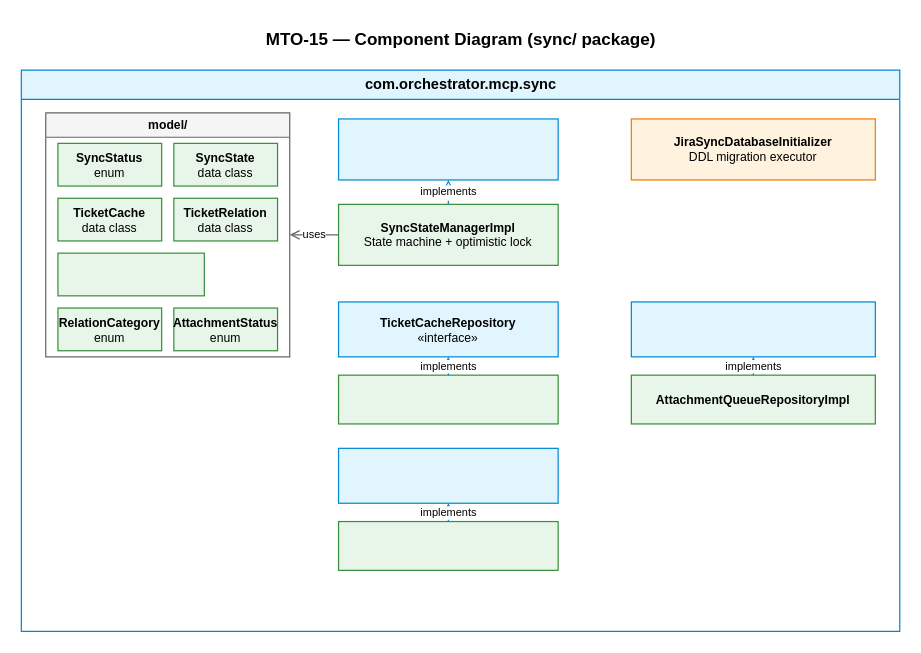
Some shapes in this 921 by 653 pixel diagram are drawn without their labels. Here are the shapes that lost their labels. From the top down, the box of each, then its label:
(337, 118, 558, 180): SyncStateManager «interface»
(57, 252, 204, 296): AttachmentQueueItem data class
(630, 301, 875, 357): AttachmentQueueRepository «interface»
(337, 374, 558, 424): TicketCacheRepositoryImpl
(337, 447, 558, 503): TicketGraphRepository «interface»
(337, 520, 558, 570): TicketGraphRepositoryImpl
